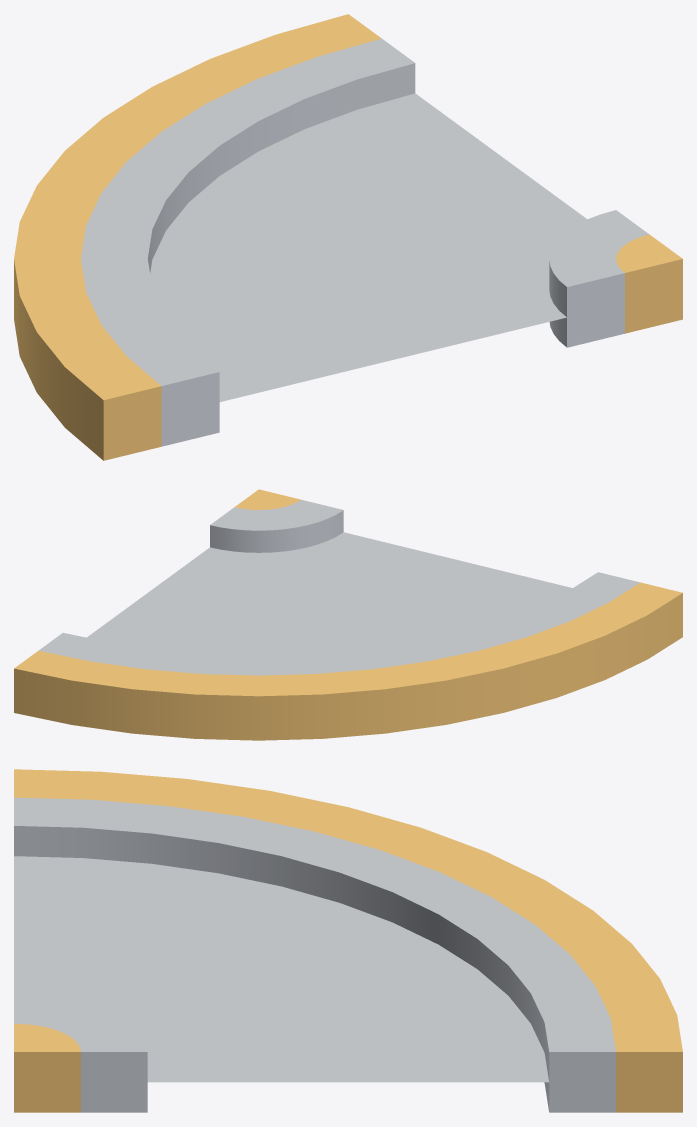
Rendered from platform_cornerRound.gltf.
3 views of the same model, one above another, from view 1: azimuth 30°, elevation 25°; view 2: azimuth 150°, elevation 25°; view 3: azimuth 270°, elevation 25° (orthographic). The views are drawn at different scales.
Parts seen in each view (by area): view 1: platform_cornerRound; view 2: platform_cornerRound; view 3: platform_cornerRound.
Part boxes in pixels (x1,y1,x2,y2): platform_cornerRound: [14, 14, 682, 460]; platform_cornerRound: [14, 489, 682, 740]; platform_cornerRound: [14, 769, 682, 1112].
Size of the model in its own units: 1 by 0.1 by 1.
